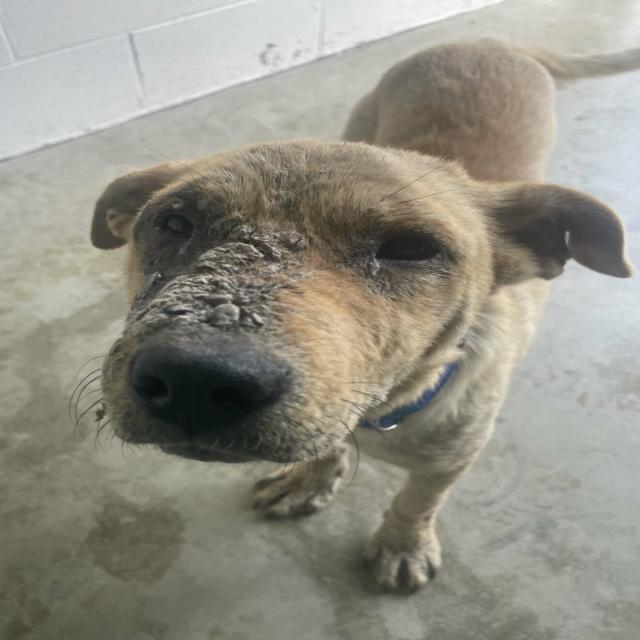mange: (146, 246, 276, 324)
